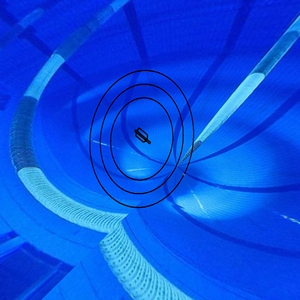circle: (87, 63, 197, 214)
submarine: (132, 123, 154, 151)
